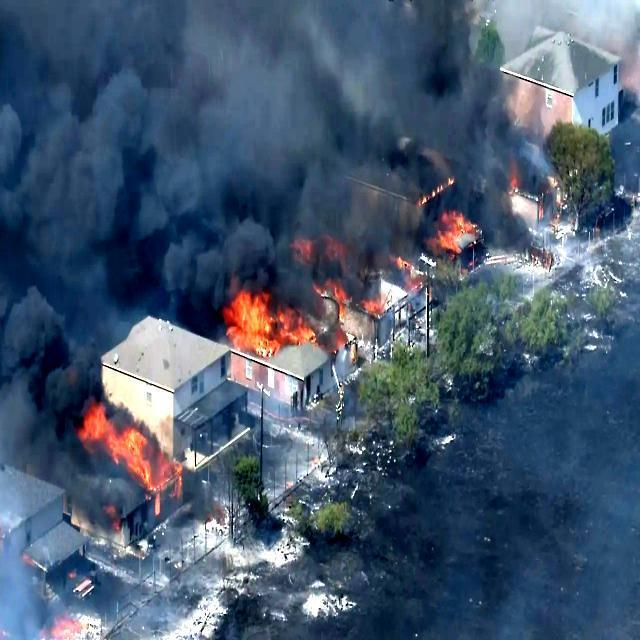Fire: (220, 284, 316, 368), (76, 398, 158, 485), (428, 210, 475, 258), (323, 282, 351, 310), (363, 298, 387, 314)
Smoke: (0, 0, 517, 375), (0, 0, 243, 545)
